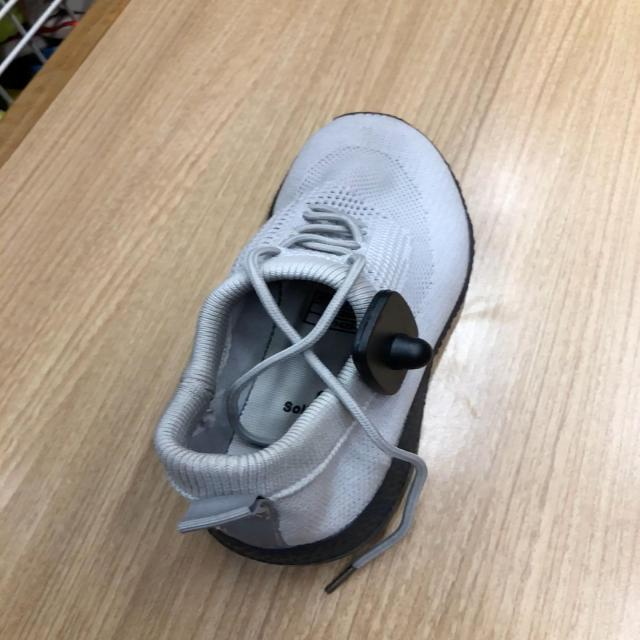shoe: (152, 112, 476, 569)
